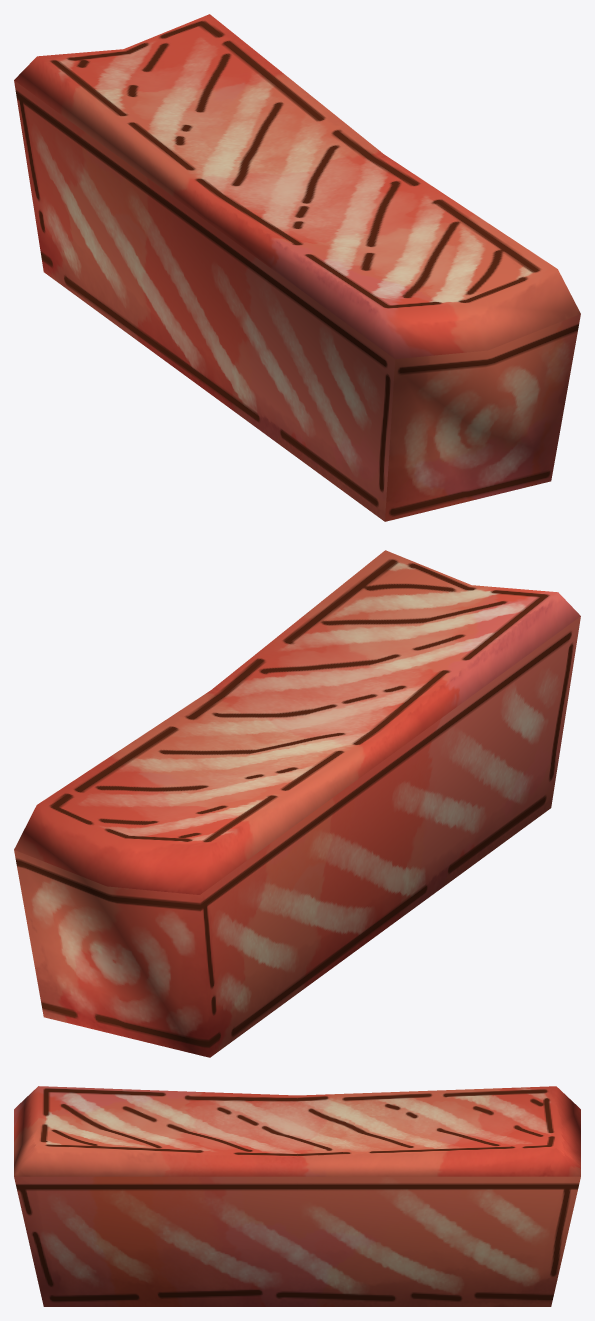
Rendered from top midle slab.fbx.
3 views of the same model, one above another, from view 1: azimuth 30°, elevation 25°; view 2: azimuth 150°, elevation 25°; view 3: azimuth 270°, elevation 25° (orthographic). The views are drawn at different scales.
Parts seen in each view (by area): view 1: topmiddle; view 2: topmiddle; view 3: topmiddle.
Part boxes in pixels (bbox=[...]): topmiddle: bbox=[14, 14, 580, 521]; topmiddle: bbox=[14, 550, 580, 1057]; topmiddle: bbox=[14, 1086, 580, 1306].
Bounding box in the file's own units: 11.93 × 13.13 × 42.4.
